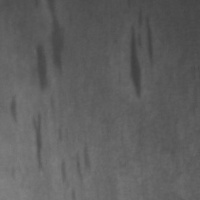inclusion: (119, 4, 161, 104), (41, 0, 72, 78), (54, 140, 96, 190), (27, 110, 54, 175), (25, 40, 53, 94), (4, 92, 23, 127)
